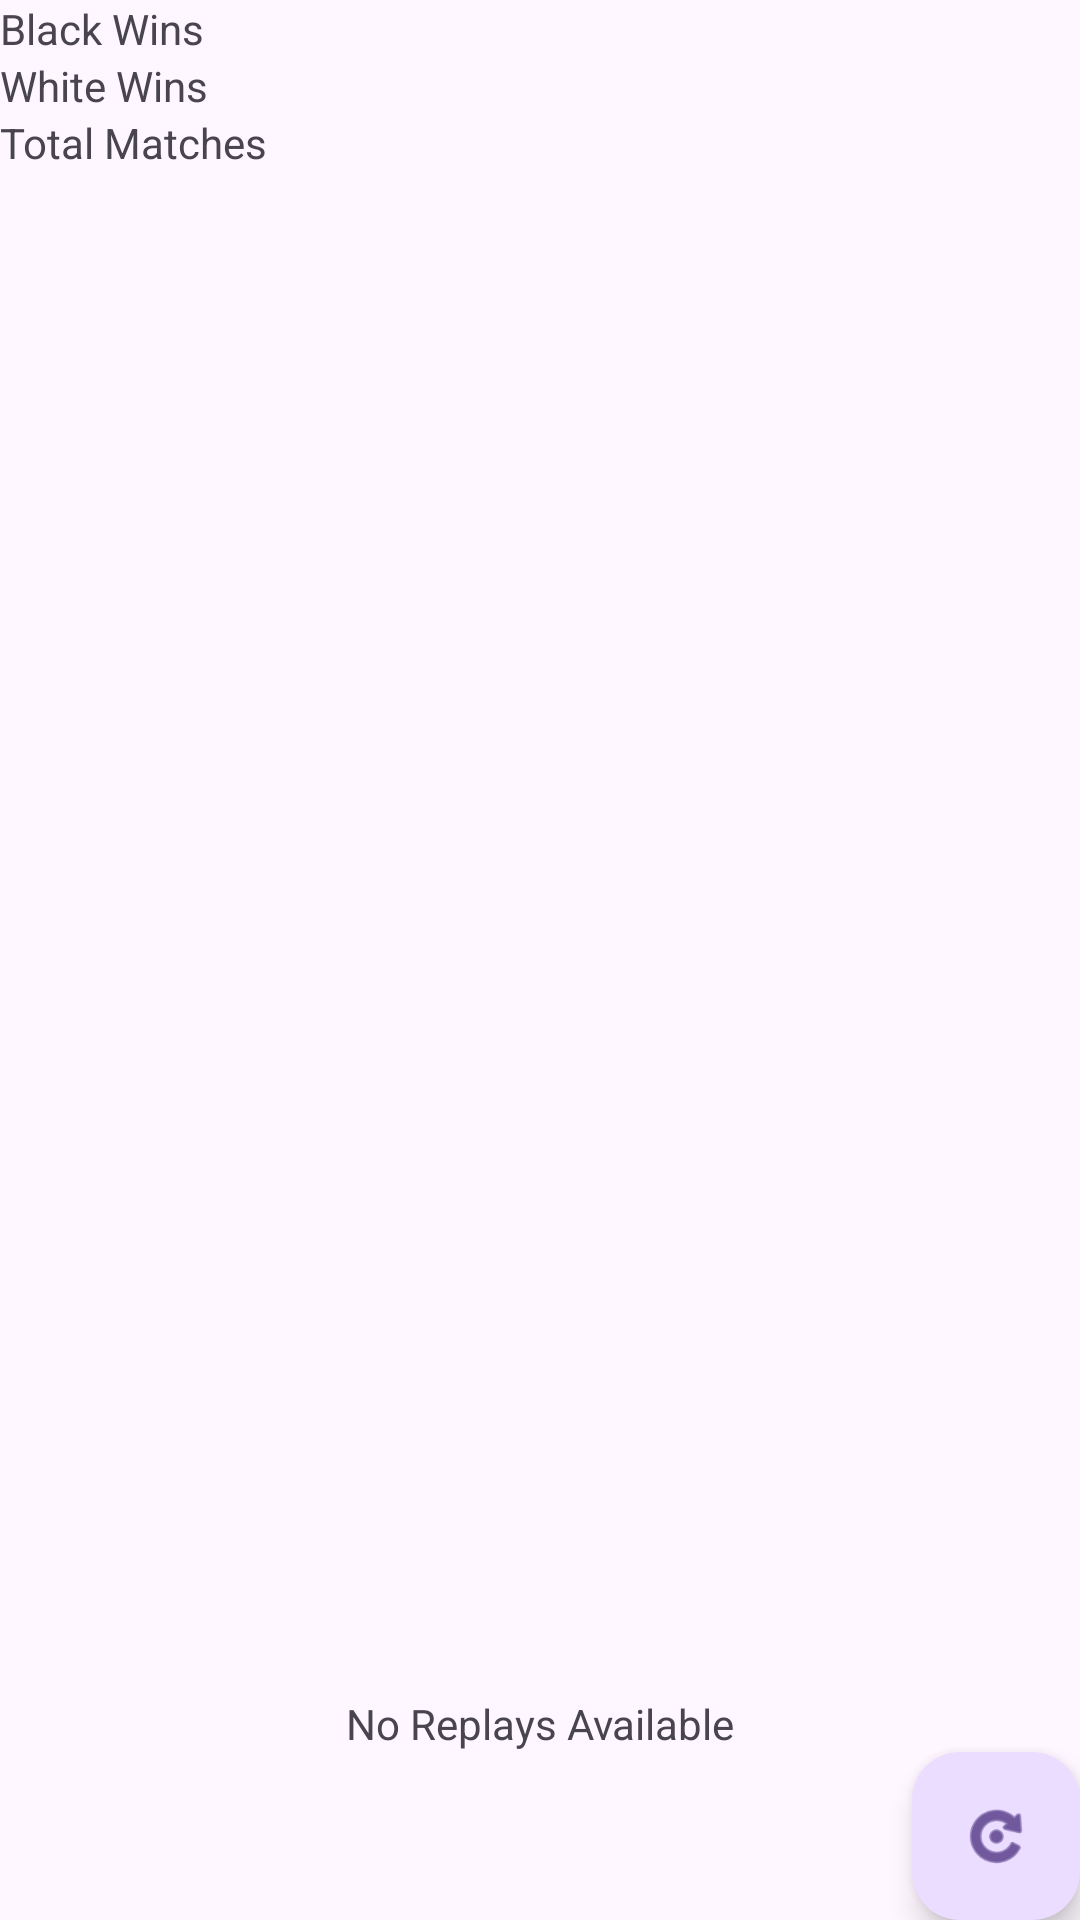

Point at icon controls on the screen. Image size 1080px×1920px, points as point (x, y).
rotate: point (996, 1836)
